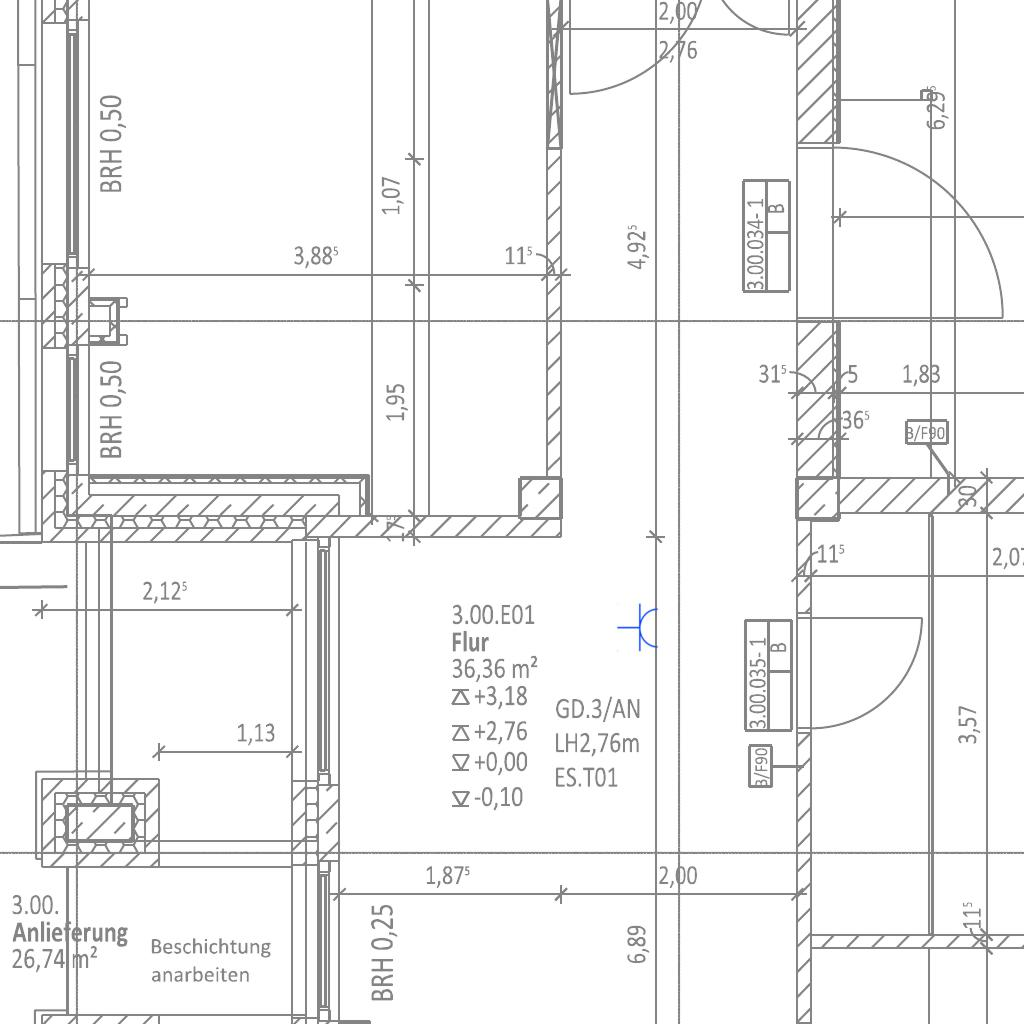Schukosteckdose_einfach: (617, 603, 660, 653)
